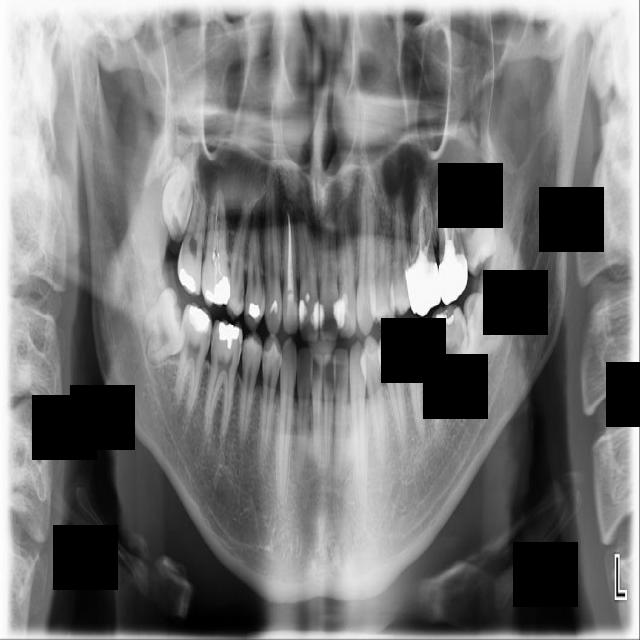3M ESPE Implant: (157, 143, 199, 244)
52: (415, 295, 471, 350), (400, 257, 448, 318), (436, 240, 470, 306), (205, 317, 247, 369), (394, 316, 438, 365), (179, 301, 214, 355), (176, 242, 202, 297), (201, 261, 231, 308), (318, 287, 341, 342), (298, 286, 320, 342), (243, 283, 268, 332), (281, 287, 301, 335), (339, 286, 357, 339), (265, 290, 283, 336), (209, 333, 212, 341), (241, 342, 243, 349), (212, 334, 213, 340)
73: (406, 167, 442, 264), (427, 178, 465, 260), (201, 170, 229, 267), (283, 206, 297, 285), (609, 560, 615, 574)
BioHorizons Implant: (433, 181, 469, 305)
BioLife Implant: (451, 171, 501, 278)
Biomet 3i Implant: (459, 281, 510, 368)
Blue Sky Bio Implant: (429, 301, 472, 416)
Caries: (175, 168, 210, 297)
Implant: (170, 299, 216, 419)
Keystone Dental Implant: (137, 285, 190, 366)
